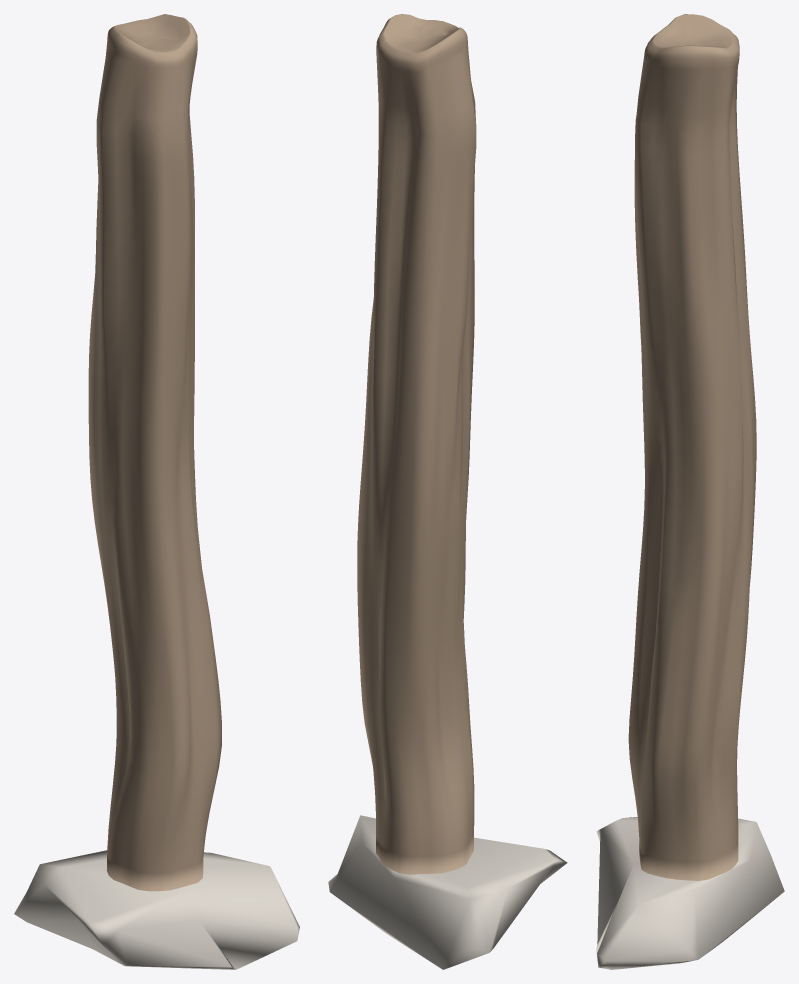
Rendered from bagana-f3-3x12-v2.glb.
The picture shows the model from 3 angles, left to right: view 1: azimuth 30°, elevation 25°; view 2: azimuth 150°, elevation 25°; view 3: azimuth 270°, elevation 25°; orthographic projection.
Parts seen in each view (by area): view 1: bagana_wood, bagana_stone; view 2: bagana_wood, bagana_stone; view 3: bagana_wood, bagana_stone.
Part boxes in pixels (bbox=[...]): bagana_wood: bbox=[88, 14, 221, 891]; bagana_stone: bbox=[14, 850, 299, 969]; bagana_wood: bbox=[357, 14, 476, 874]; bagana_stone: bbox=[328, 815, 567, 969]; bagana_wood: bbox=[628, 14, 756, 880]; bagana_stone: bbox=[596, 817, 784, 969].
Size of the model in its own units: 0.7206 by 3.06 by 0.579.
